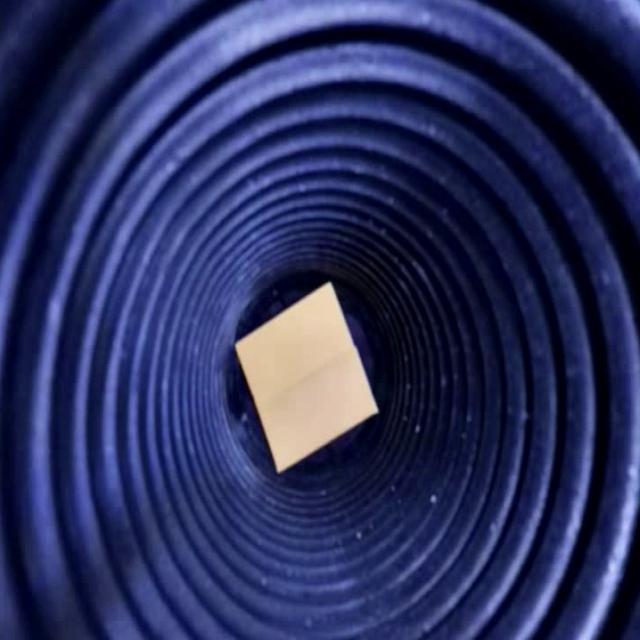obstacles: (232, 276, 382, 482)
